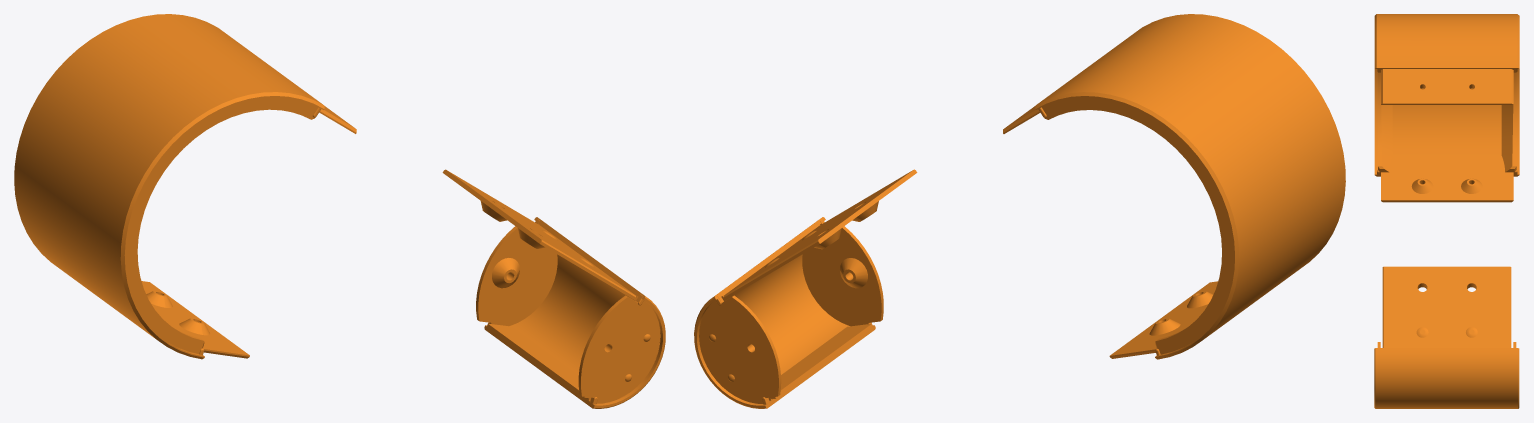
Rendered from ArmLeftPlastic.dae.
3 views of the same model, side by side, from view 1: azimuth 30°, elevation 25°; view 2: azimuth 150°, elevation 25°; view 3: azimuth 270°, elevation 25° (orthographic). The views are drawn at different scales.
Parts seen in each view (by area): view 1: PlasticMesh; view 2: PlasticMesh; view 3: PlasticMesh.
Part boxes in pixels (<box>): PlasticMesh: <box>14,14,665,408</box>; PlasticMesh: <box>694,14,1345,408</box>; PlasticMesh: <box>1374,14,1519,408</box>.
Size of the model in its own units: 0.211 by 0.0737 by 0.1482.
